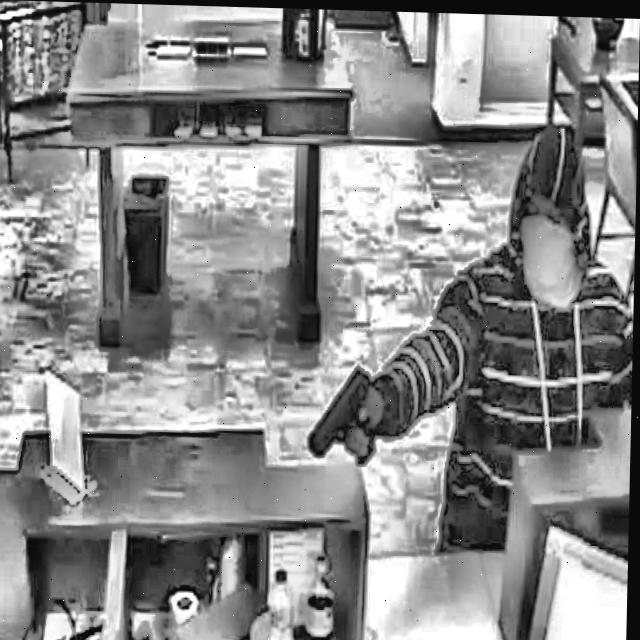pistol: (302, 355, 383, 483)
robbery: (298, 102, 636, 567)
